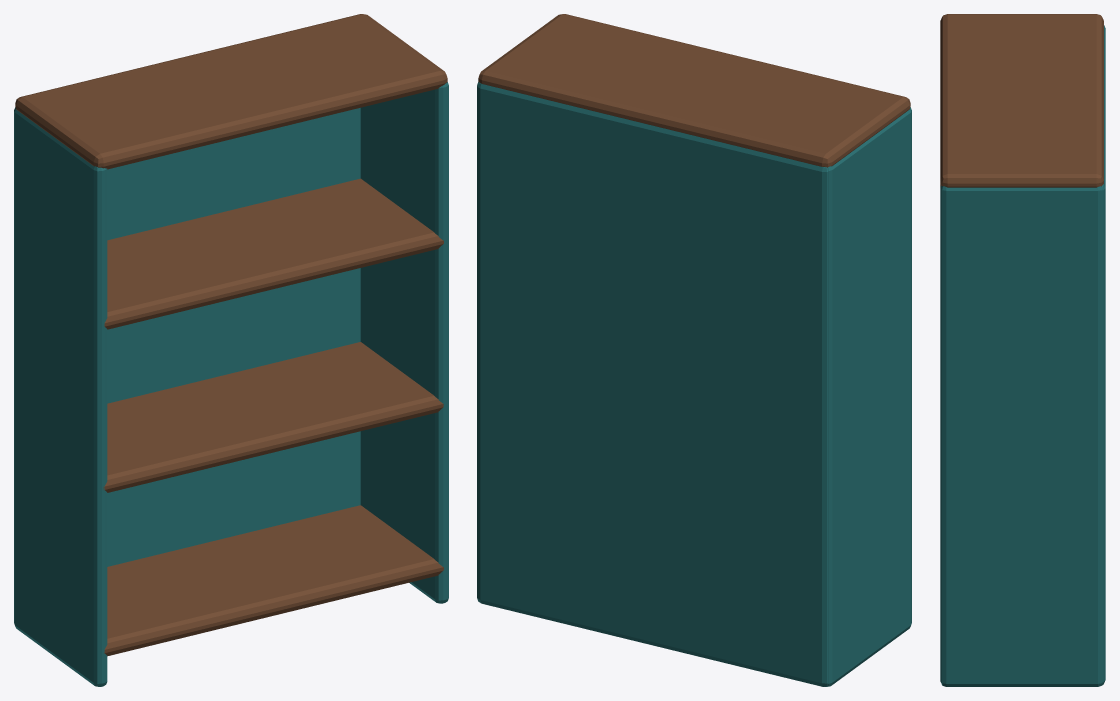
File: storage_shelf.glb
3 renders of one model, left to right at view 1: azimuth 30°, elevation 25°; view 2: azimuth 150°, elevation 25°; view 3: azimuth 270°, elevation 25°, orthographic. The views are drawn at different scales.
Parts seen in each view (by area): view 1: storage_shelf; view 2: storage_shelf; view 3: storage_shelf.
Part boxes in pixels (x1,y1,x2,y2): storage_shelf: (14, 14, 448, 686); storage_shelf: (477, 14, 911, 686); storage_shelf: (940, 14, 1105, 686).
Size of the model in its own units: 1.2 by 1.73 by 0.505.
